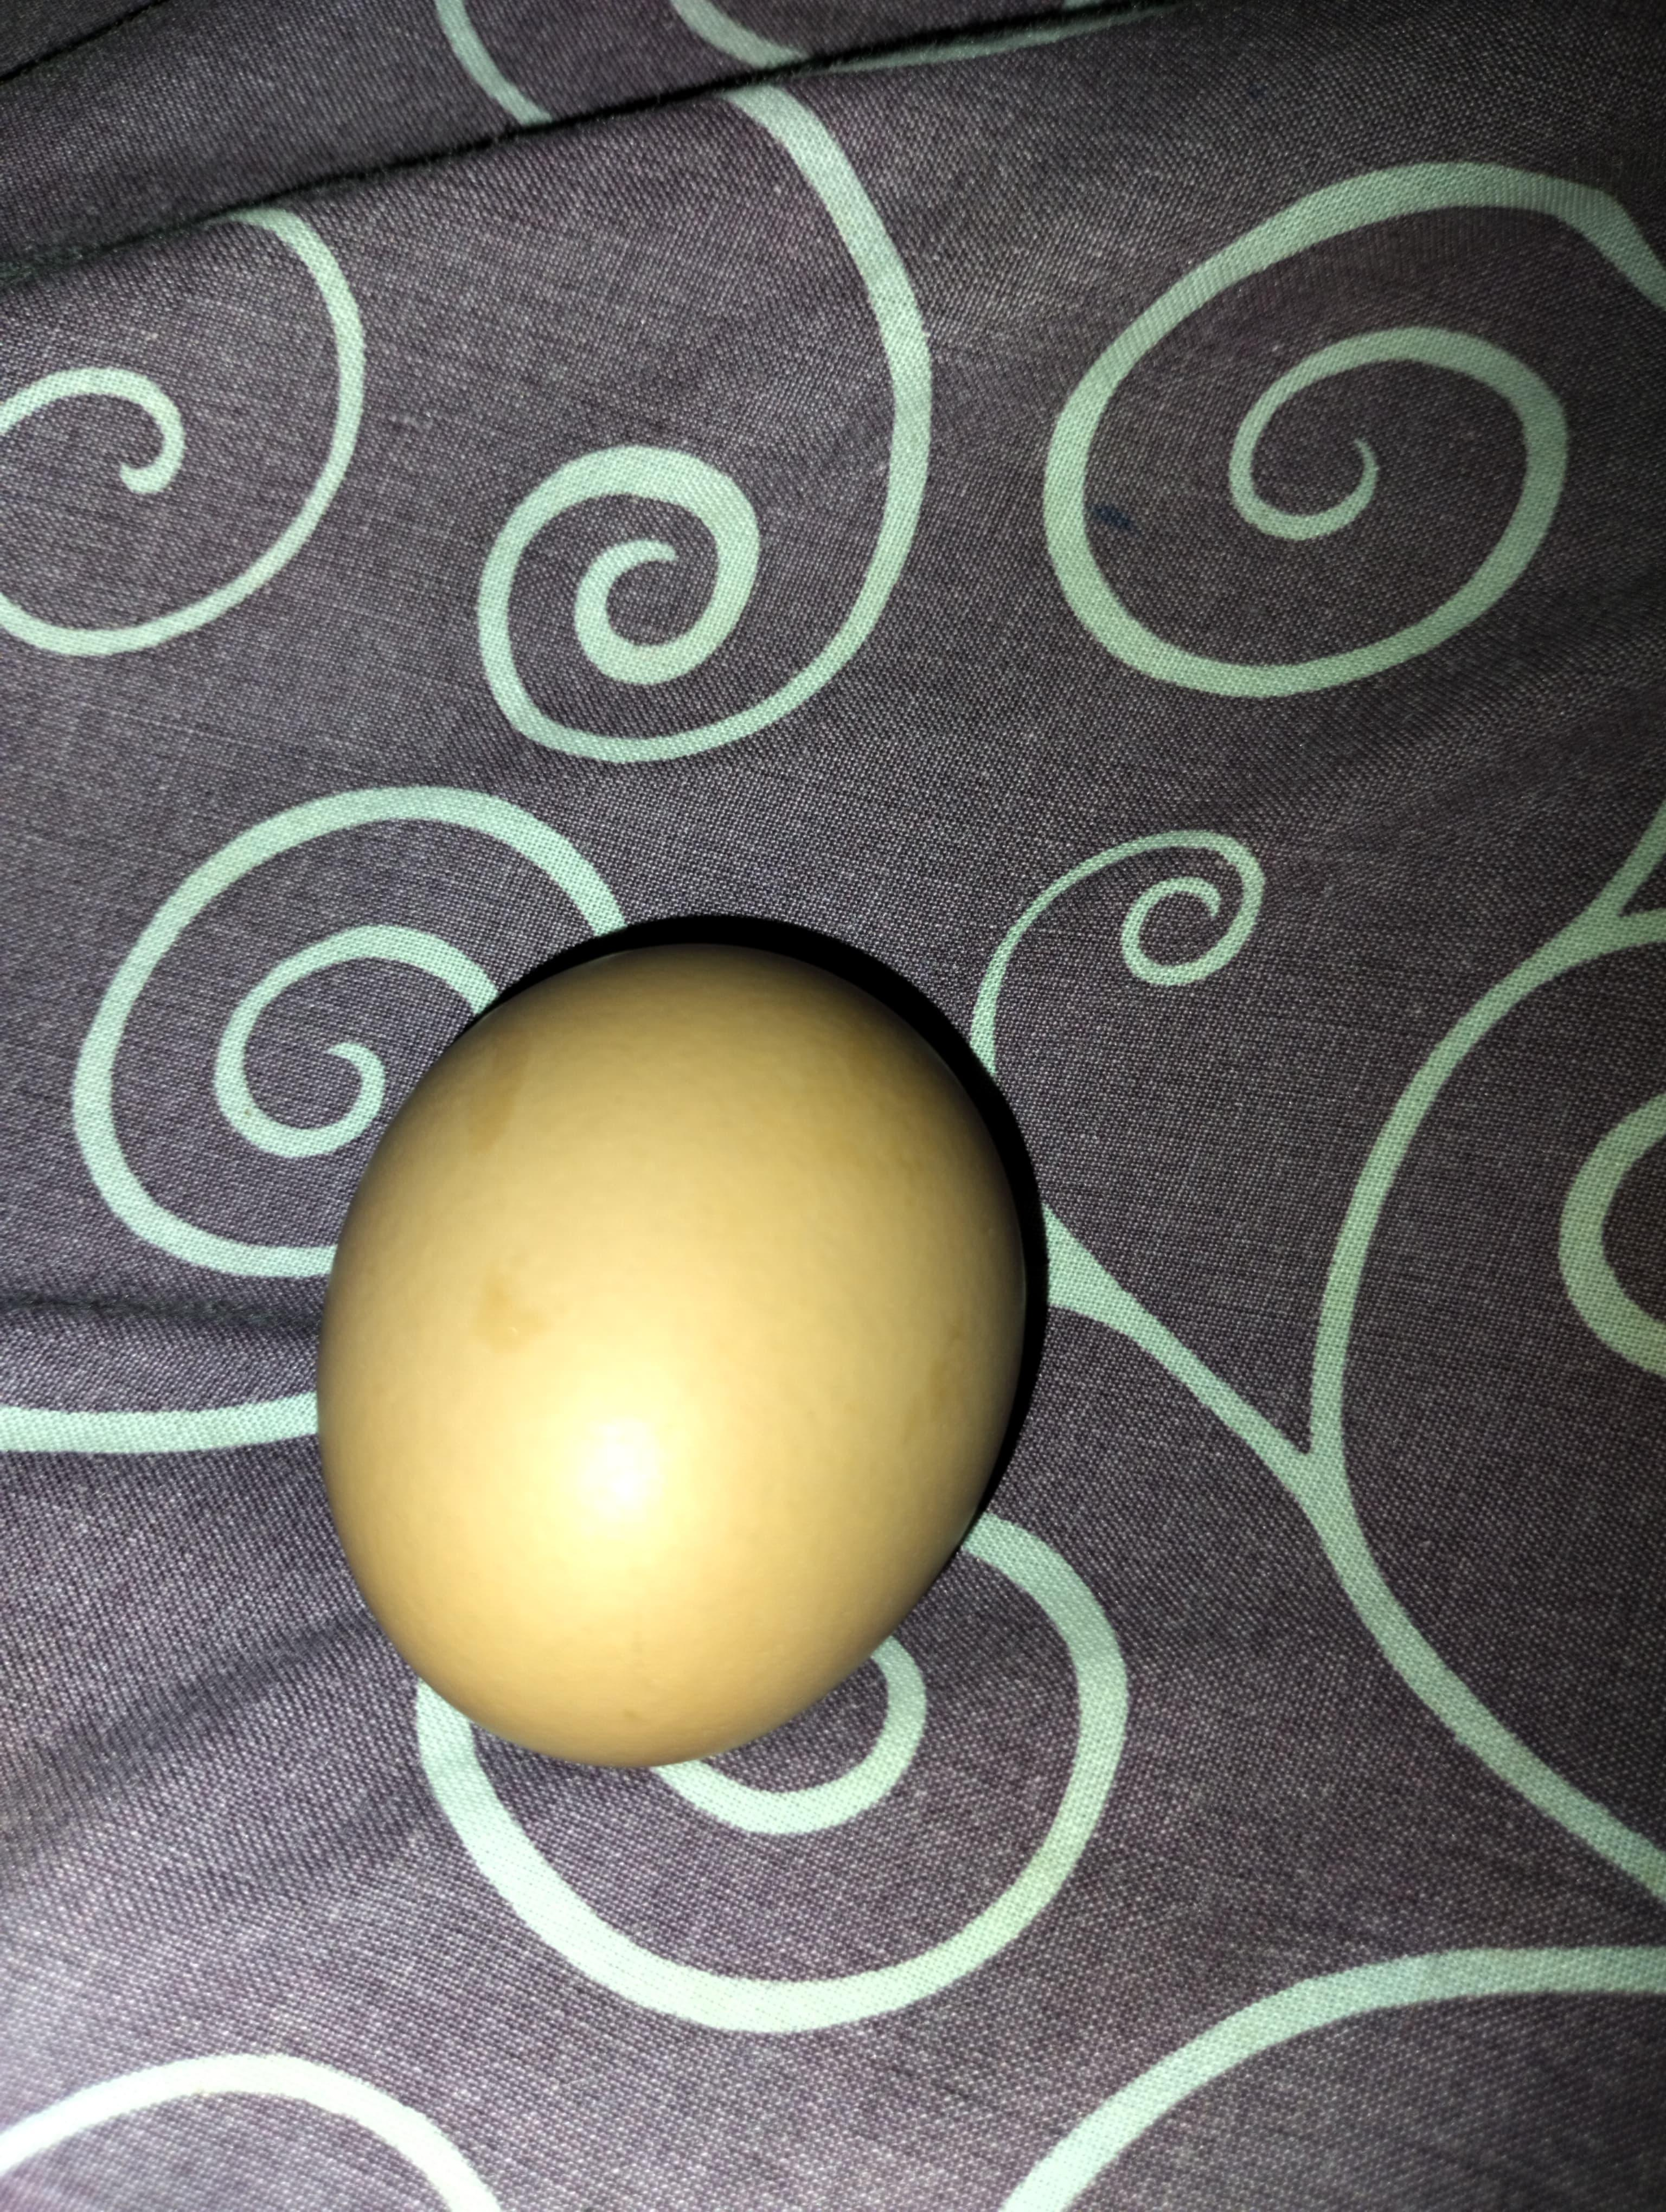curah: (320, 946, 1029, 1768)
